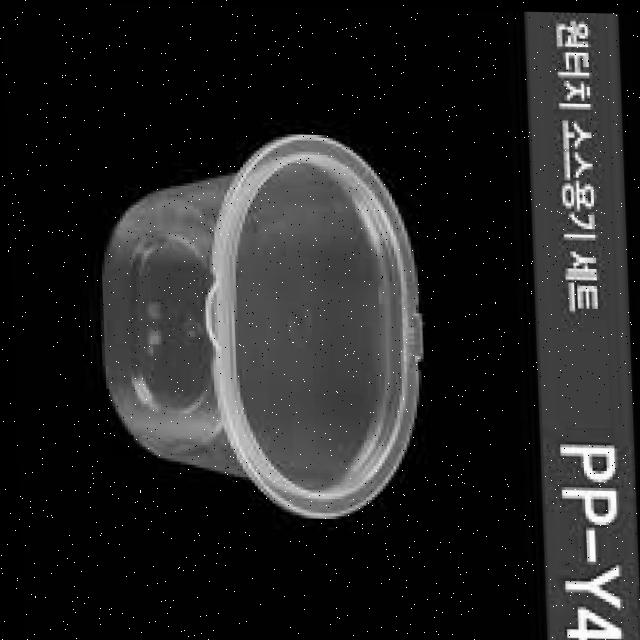disposable: (64, 117, 433, 561)
